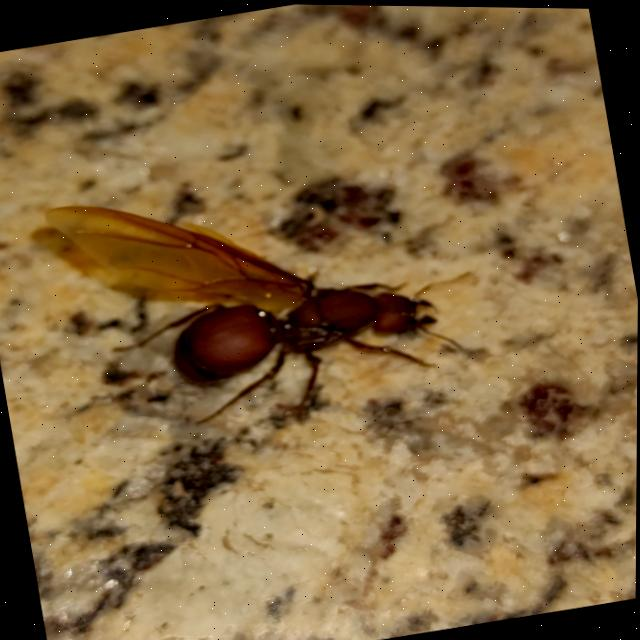Alive-Female-Alate: (40, 136, 495, 466)
